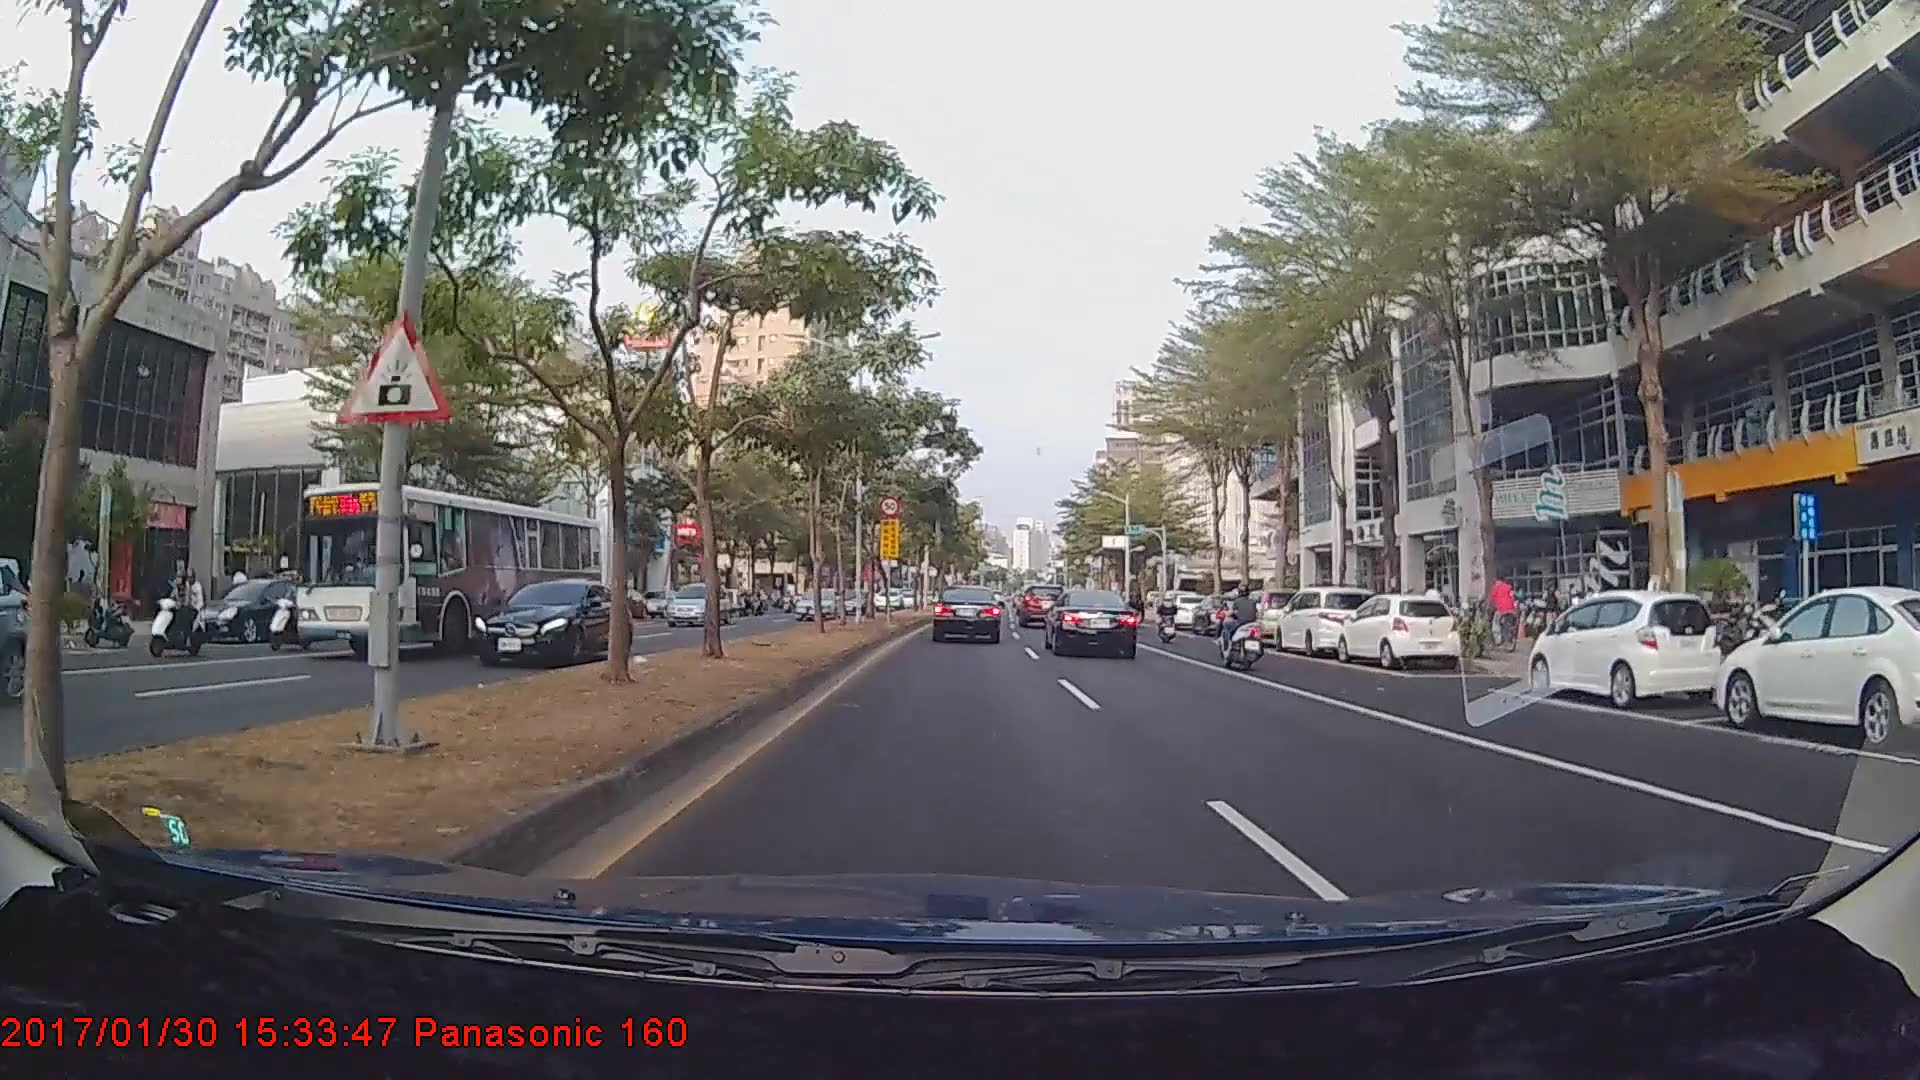rider: (144, 565, 211, 654), (1215, 582, 1281, 668), (1216, 587, 1267, 659), (1479, 571, 1524, 654), (1156, 586, 1184, 643)
vehicle: (285, 476, 602, 658), (1713, 585, 1920, 749), (1524, 587, 1722, 711), (472, 572, 636, 665), (1336, 592, 1459, 669), (185, 577, 325, 643), (1274, 584, 1379, 655), (1047, 587, 1139, 658), (1233, 585, 1311, 642), (931, 584, 1004, 644), (664, 581, 729, 624), (1017, 581, 1067, 626), (792, 584, 842, 619)
